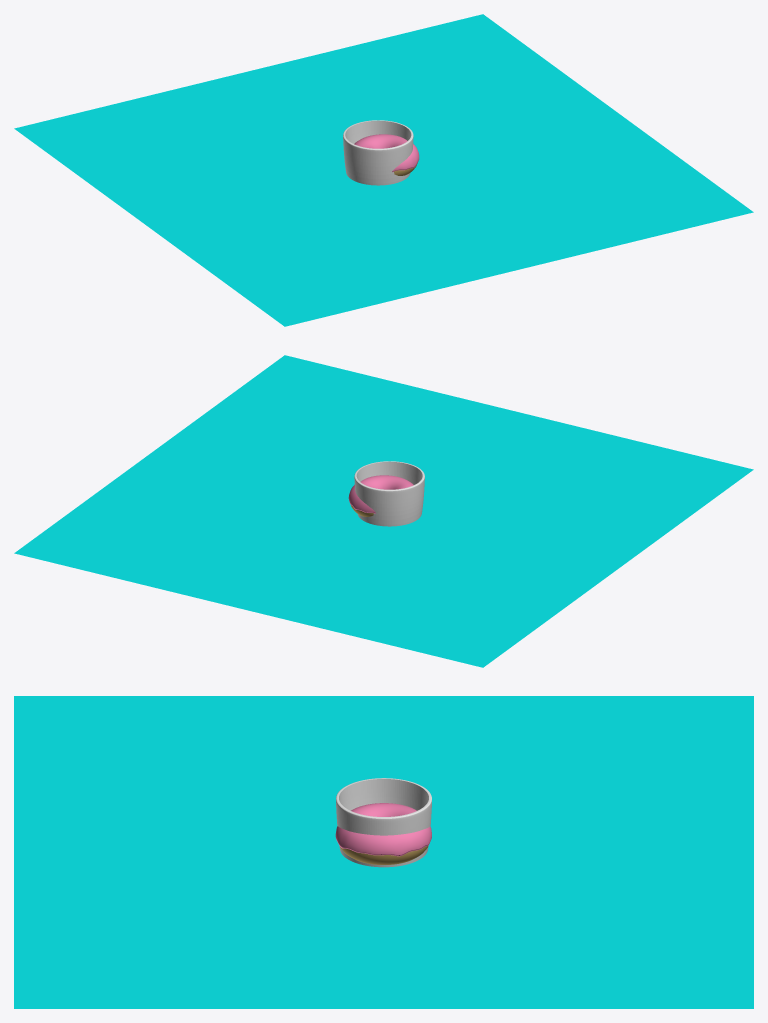
The model's file is DONUTS.fbx.
3 views of the same model, one above another, from view 1: azimuth 30°, elevation 25°; view 2: azimuth 150°, elevation 25°; view 3: azimuth 270°, elevation 25° (orthographic). The views are drawn at different scales.
Visible parts, largest first — view 1: Plane, Cylinder, Torus.001; view 2: Plane, Cylinder, Torus.001; view 3: Plane, Cylinder, Torus.001, Torus.
Part boxes in pixels (x1,y1,x2,y2): Plane: (14,14,753,326); Cylinder: (343,120,413,185); Torus.001: (354,134,419,172); Plane: (14,355,753,667); Cylinder: (354,461,424,526); Torus.001: (348,475,413,513); Plane: (14,696,753,1008); Cylinder: (336,778,431,867); Torus.001: (335,803,431,856); Torus: (340,846,428,864).
Bounding box in the file's own units: 1800 × 295 × 1800.
